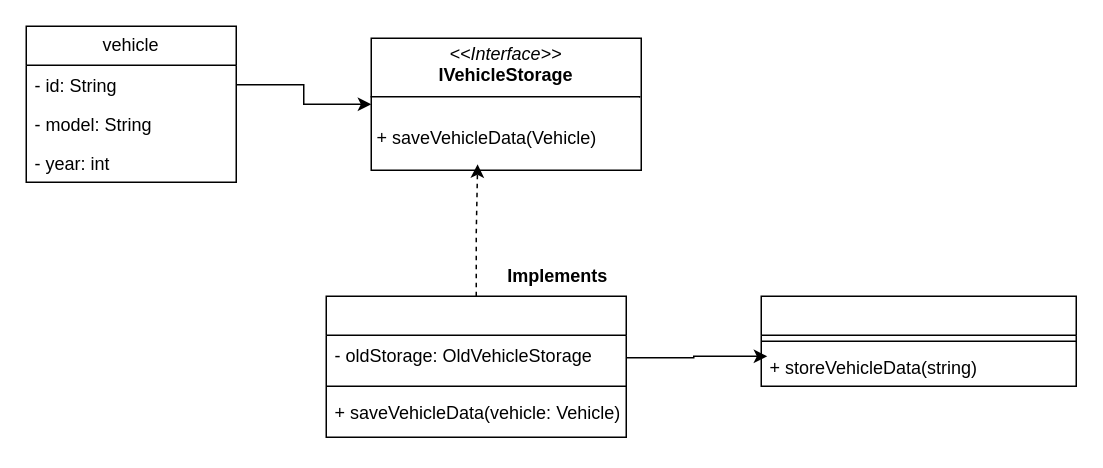
Image size: 1103x468. Some labels were removed from this diagram. The box of each missing label's shape, as (x1, y1, x2, y2) in pixels:
OldVehicleStorage: (760, 295, 1076, 386)
VehicleStorageAdapter: (325, 295, 626, 437)
